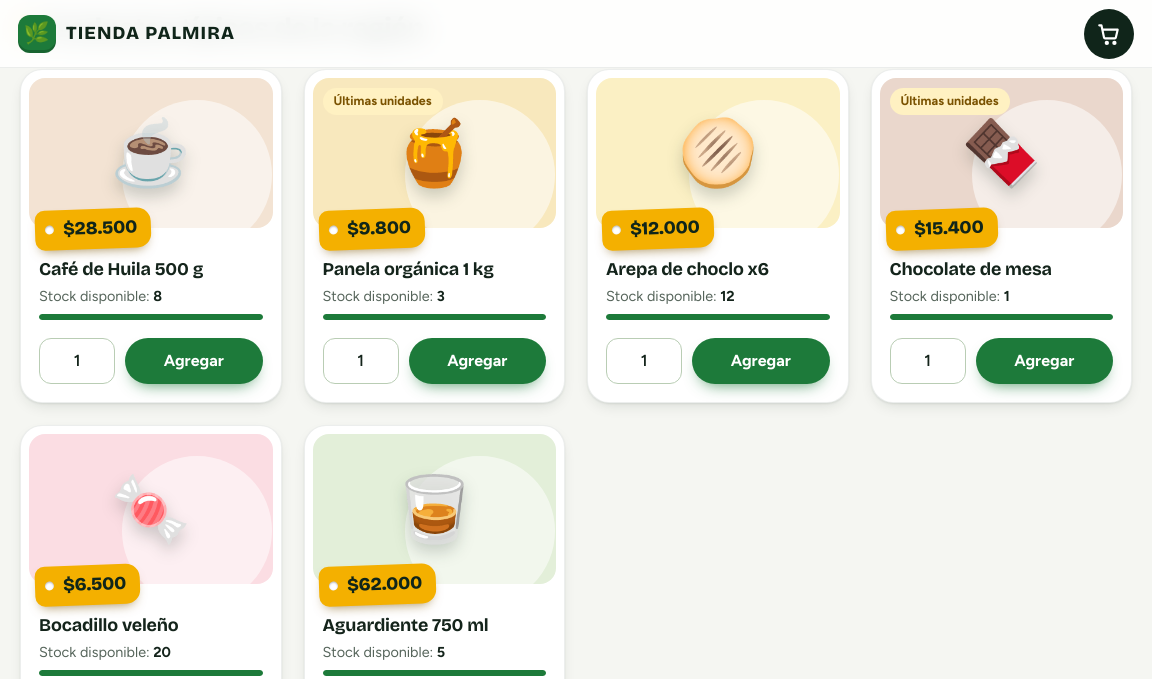
it: Datos y navbar › Caso 12: carrito a la derecha del navbar con contador de unidades (oculto en 0)
(page scrolled)
Expected: the heading "🌿 TIENDA PALMIRA" is shown, [18, 14, 235, 52]
Replace the text in the number field named "Cantidad de Café de Huila 500 g" with "2" at point(77, 361), box [39, 338, 115, 384]
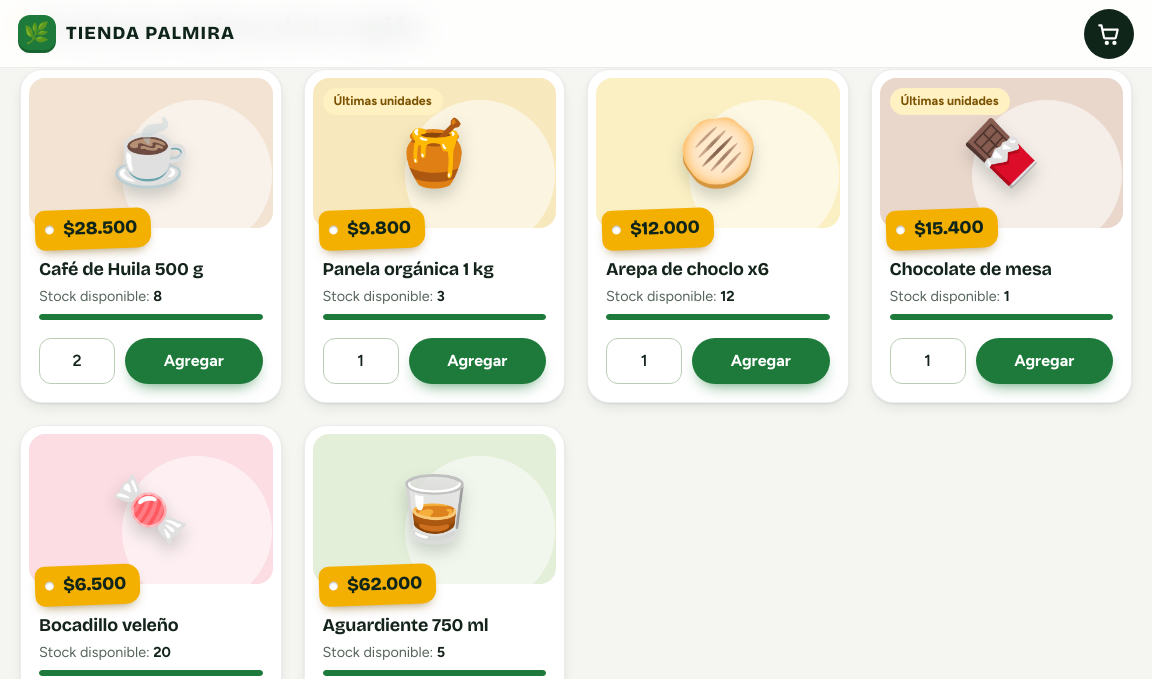
Click the button "Agregar" below "Café de Huila 500 g" at point(194, 361), box [125, 338, 262, 384]
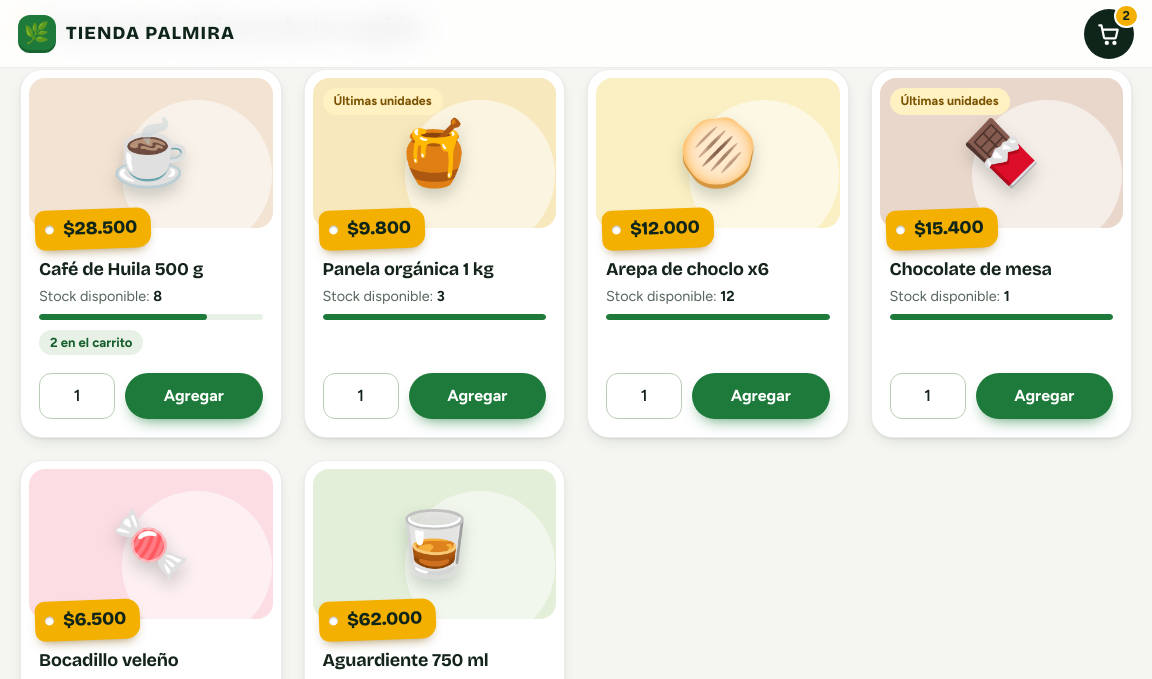
Replace the text in the number field named "Cantidad de Panela orgánica 1 kg" with "3" at point(360, 396), box [322, 374, 398, 420]
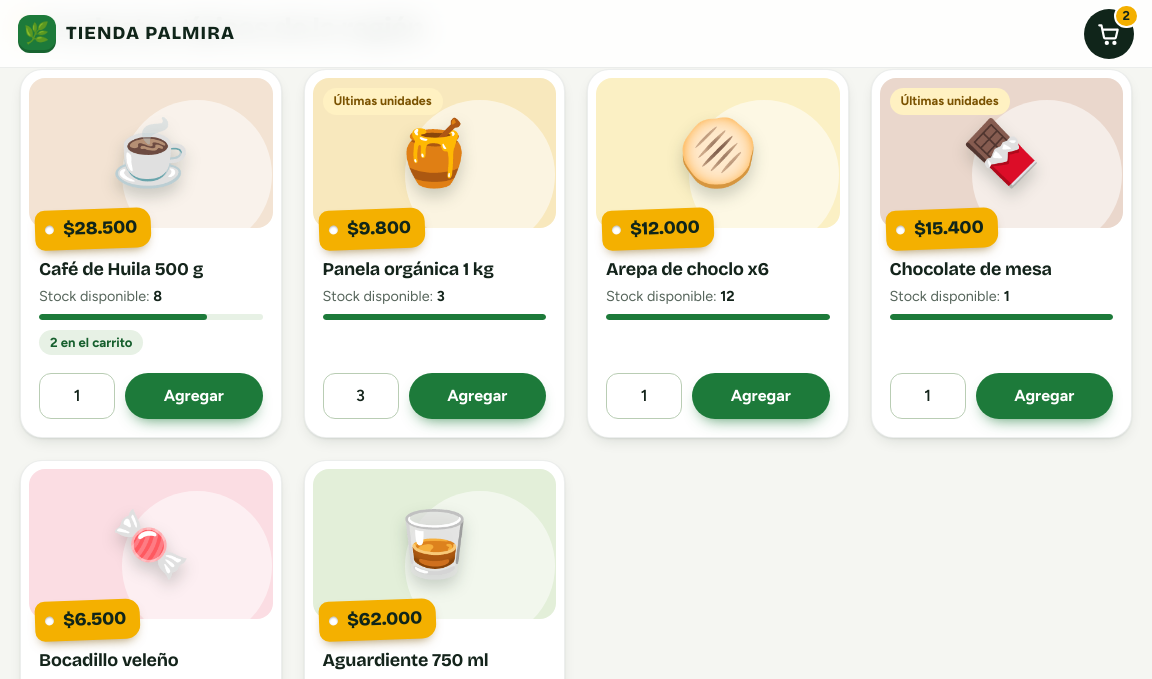
Click the button "Agregar" below "Panela orgánica 1 kg" at point(477, 396), box [408, 374, 546, 420]
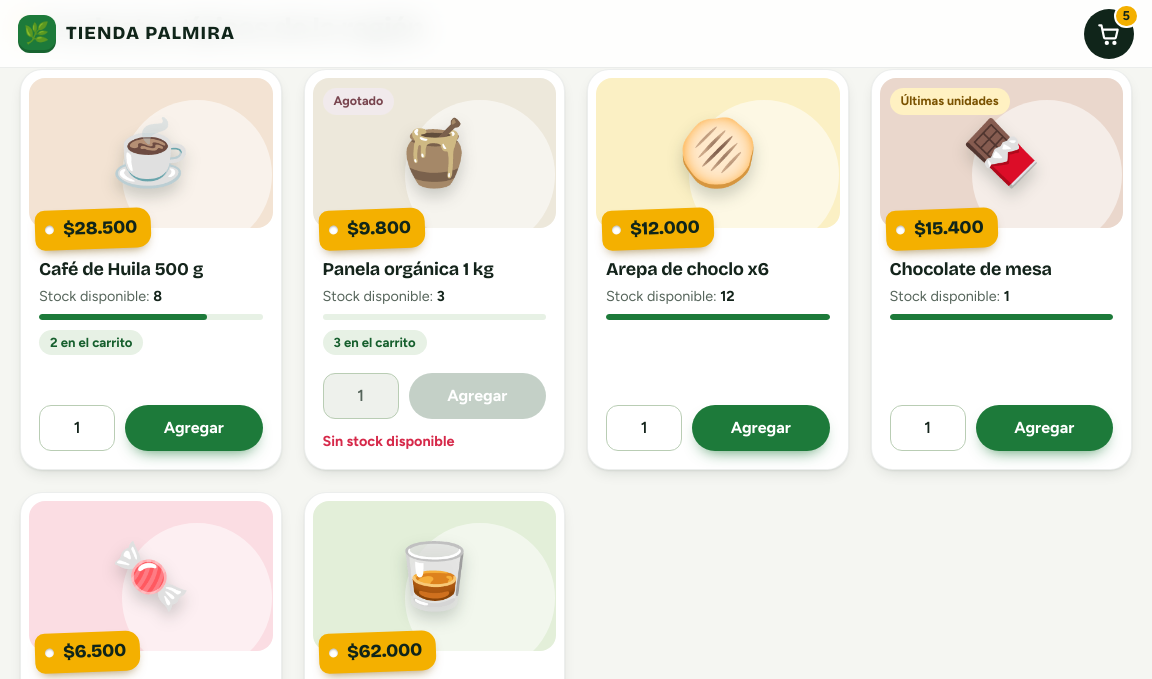
Result: the text with test id "cart-count" reads "5" at [1123, 8, 1130, 23]
